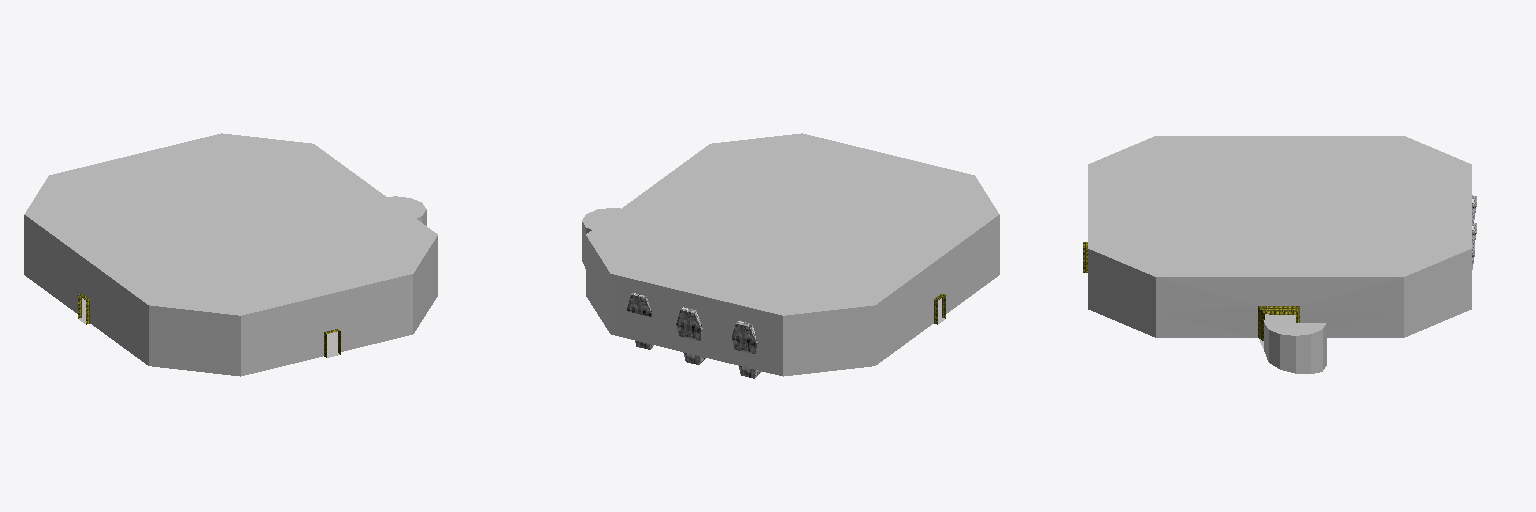
3 views of the same model, side by side, from view 1: azimuth 30°, elevation 25°; view 2: azimuth 150°, elevation 25°; view 3: azimuth 270°, elevation 25° (orthographic).
Visible parts, largest first — view 1: Floor2#Room0; view 2: Floor2#Room0; view 3: Floor2#Room0.
Part boxes in pixels (bbox=[...]): Floor2#Room0: bbox=[24, 133, 437, 376]; Floor2#Room0: bbox=[582, 133, 999, 378]; Floor2#Room0: bbox=[1083, 136, 1476, 373].
Bounding box in the file's own units: 1510 × 310 × 1480.
Materials: 8 (2 with a texture image).